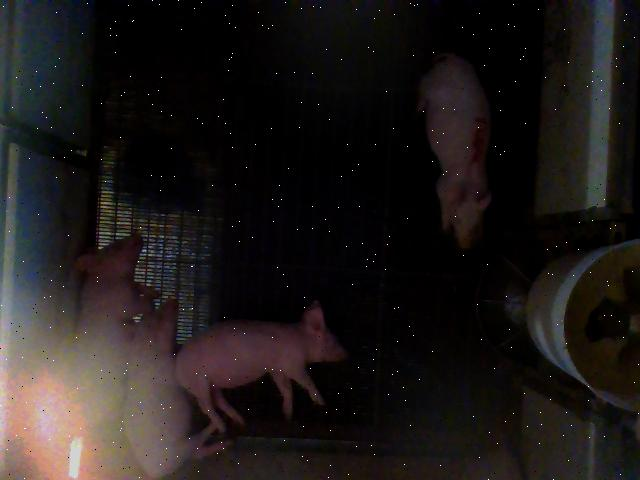pig-3: (418, 52, 492, 249)
